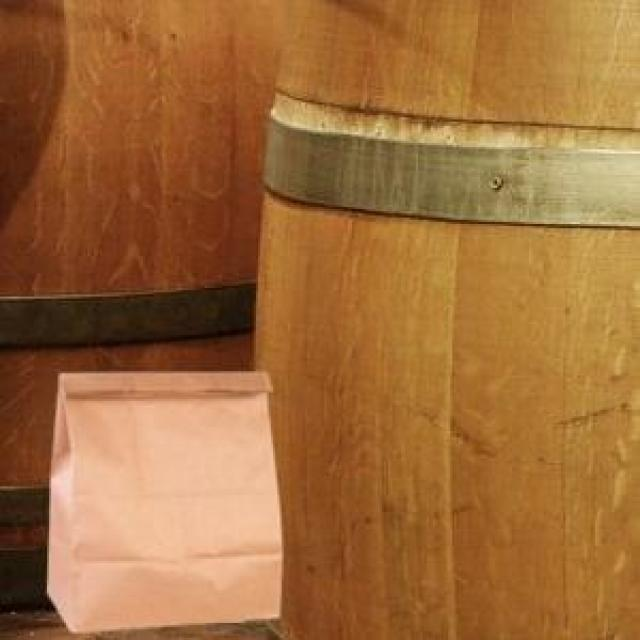paper: (43, 369, 277, 627)
